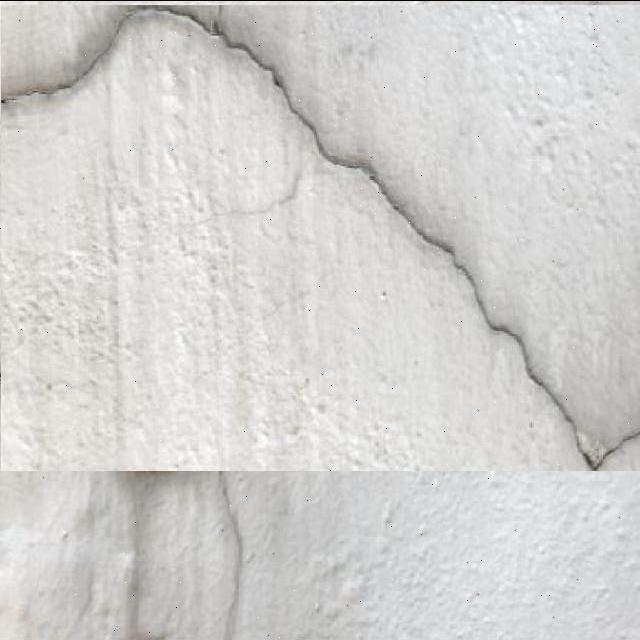crack: (221, 323, 344, 459), (243, 183, 333, 255)
dampness: (121, 0, 640, 471)
